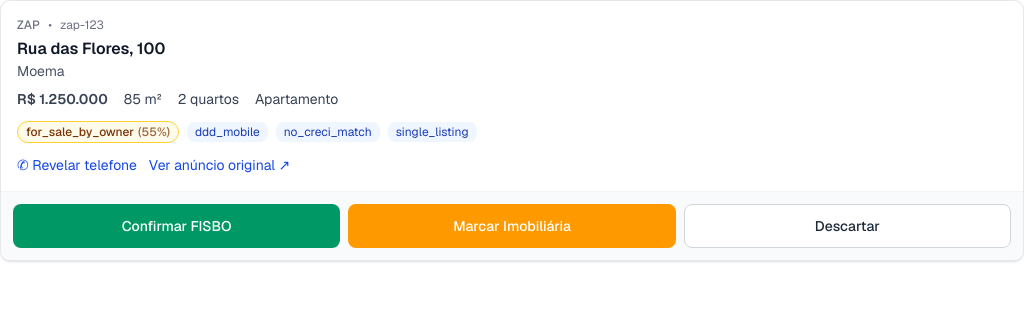
it: ReviewQueueCard — Story 7.8 AC3/AC4 › shows error message when action fails
Step 1. Click the button with aria-label "confirmar como fisbo" → click(177, 226), box left=13, top=204, right=340, bottom=248
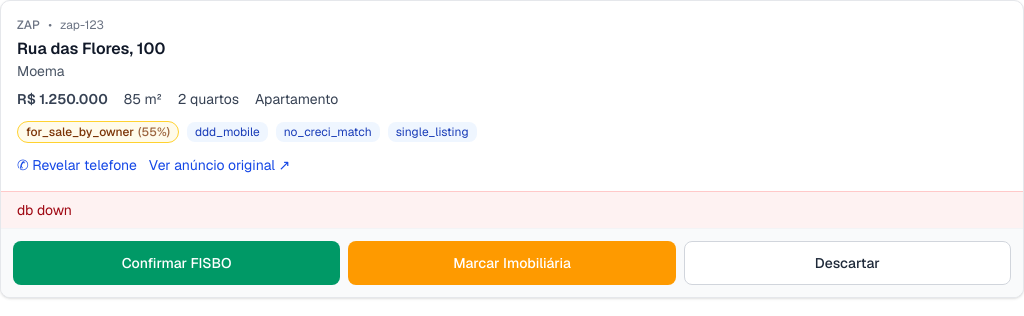
expect the message reads "db down": met, box left=17, top=201, right=72, bottom=219
